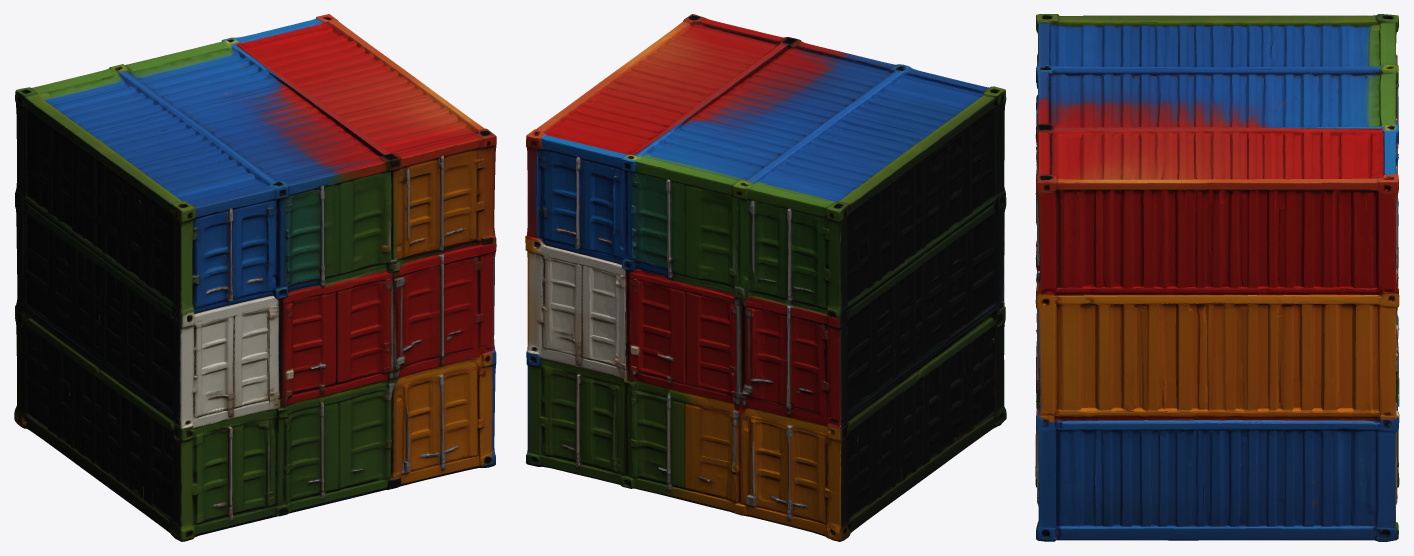
File: hp_container_stack_v1.glb
3 renders of one model, left to right at view 1: azimuth 30°, elevation 25°; view 2: azimuth 150°, elevation 25°; view 3: azimuth 270°, elevation 25°, orthographic. The views are drawn at different scales.
Visible parts, largest first — view 1: world; view 2: world; view 3: world.
Part boxes in pixels (left/top/right/bottom): world: left=14, top=14, right=496, bottom=541; world: left=525, top=14, right=1006, bottom=541; world: left=1035, top=14, right=1399, bottom=541.
Size of the model in its own units: 0.9943 by 0.9992 by 0.9112.
1 material, 1 textured.
